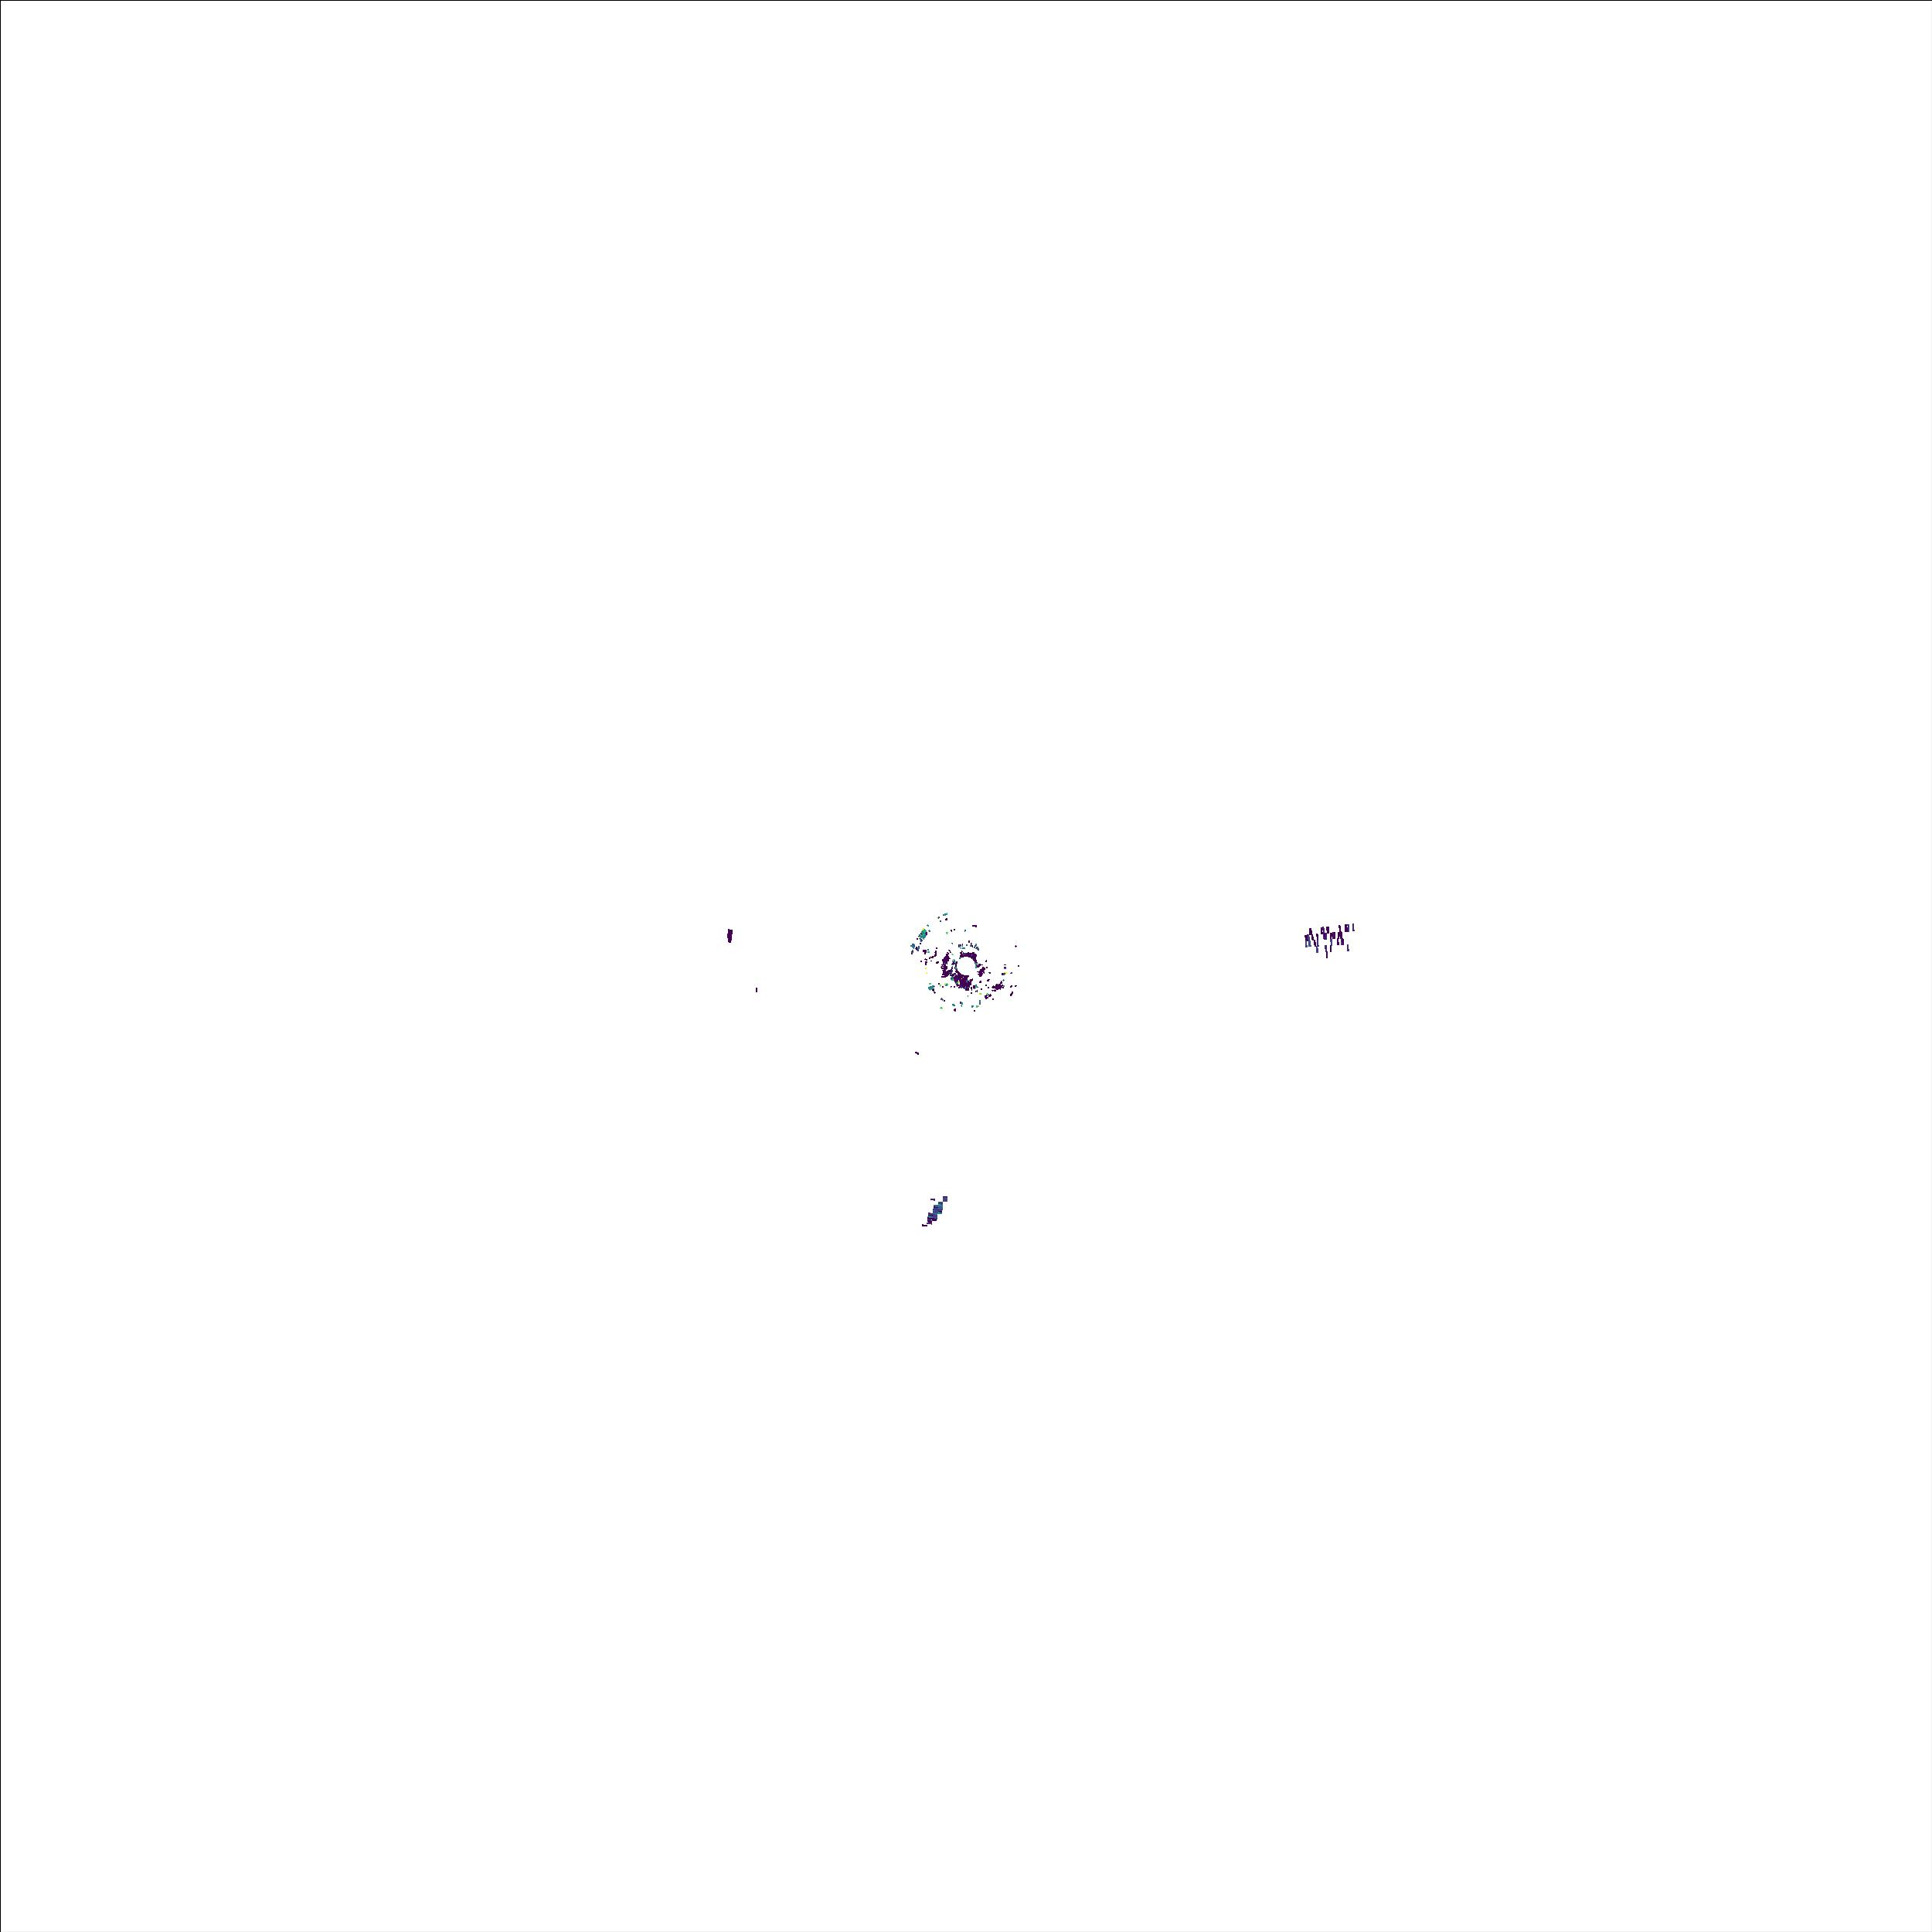fall: (918, 1192, 954, 1231)
